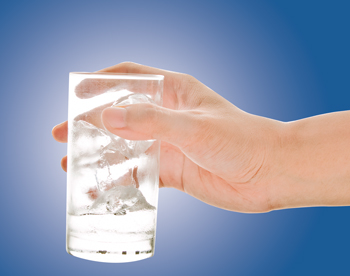glass of water: (67, 80, 158, 253)
